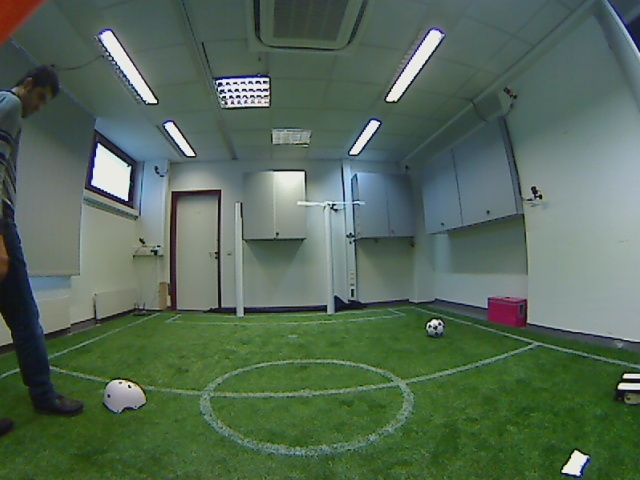ball: (421, 314, 449, 341)
